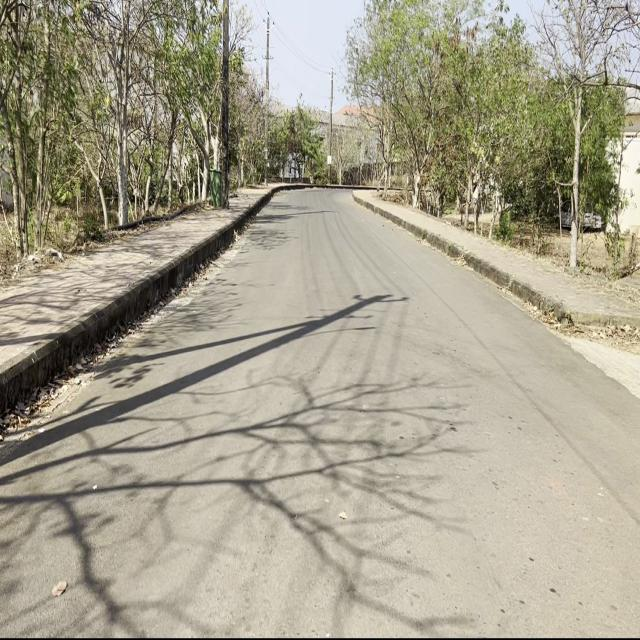Road: (4, 191, 637, 634)
